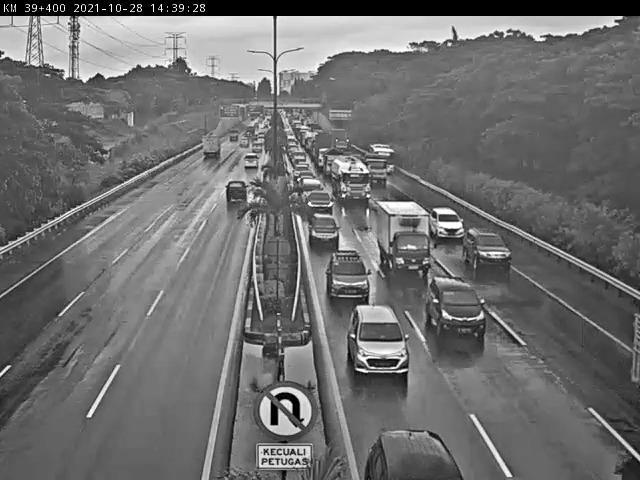big truck: (331, 156, 371, 202)
car: (344, 306, 408, 375), (424, 277, 486, 344), (463, 229, 511, 278), (322, 243, 368, 294), (428, 205, 467, 245), (308, 214, 340, 248), (220, 182, 250, 207), (304, 191, 333, 215), (243, 154, 259, 168)
small truck: (377, 202, 431, 275), (361, 152, 387, 184), (201, 135, 221, 156)
